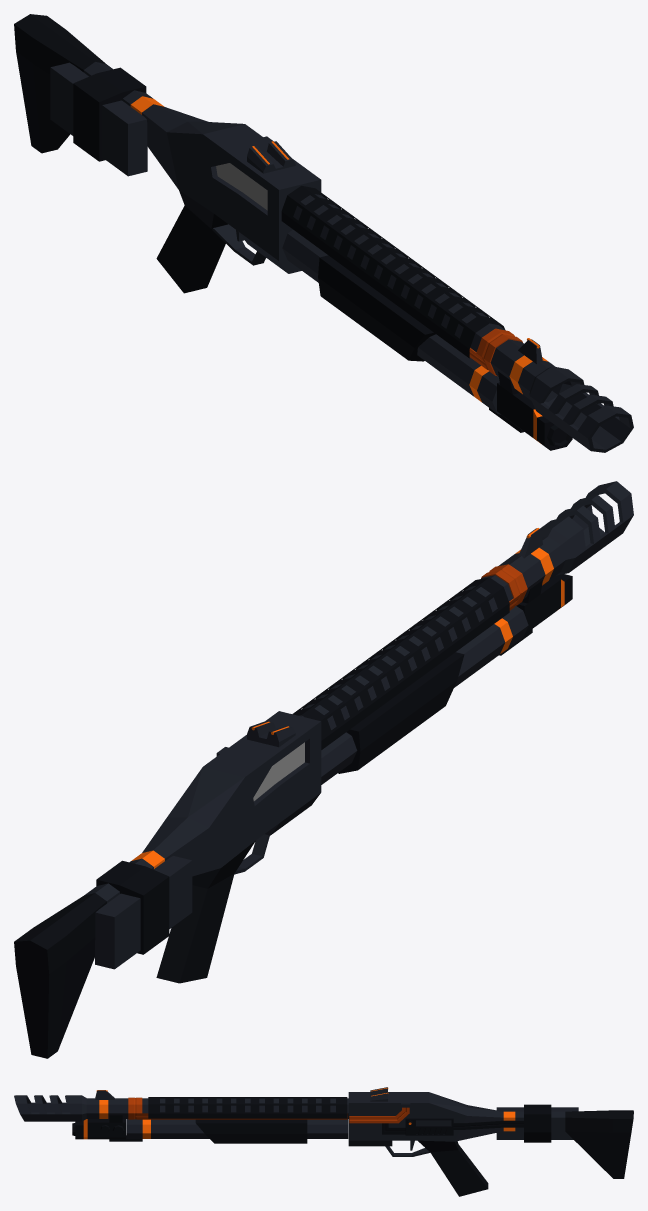
3 renders of one model, top to bottom at view 1: azimuth 30°, elevation 25°; view 2: azimuth 150°, elevation 25°; view 3: azimuth 270°, elevation 25°, orthographic. The views are drawn at different scales.
Parts seen in each view (by area): view 1: M471A2_Holo; view 2: M471A2_Holo; view 3: M471A2_Holo.
Boxes of the visible parts, x1,y1,x2,y2 form: M471A2_Holo: [14, 14, 633, 452]; M471A2_Holo: [14, 481, 633, 1058]; M471A2_Holo: [14, 1087, 633, 1196].
Bounding box in the file's own units: 5.81 × 18.07 × 97.9.
